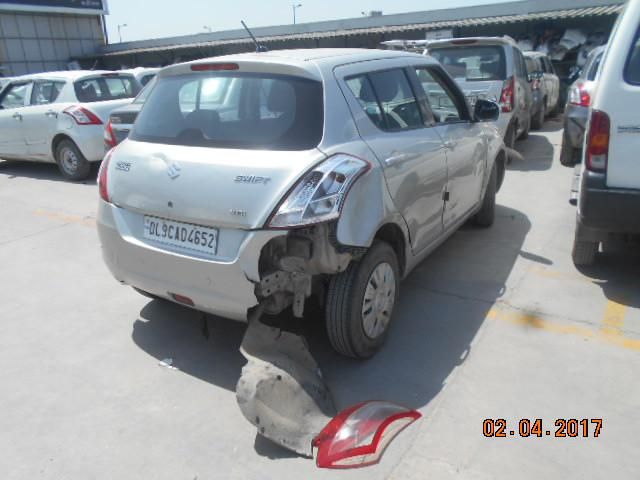rear-bumper-dent: (106, 209, 353, 322)
